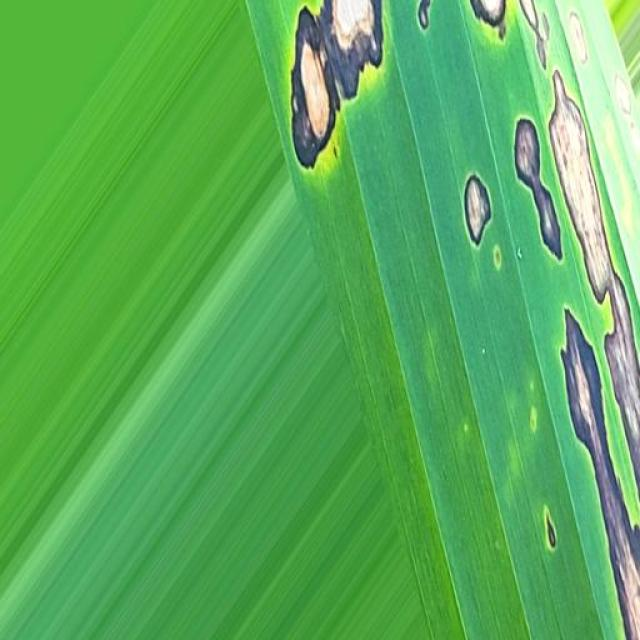Early_rust: (215, 0, 640, 633)
